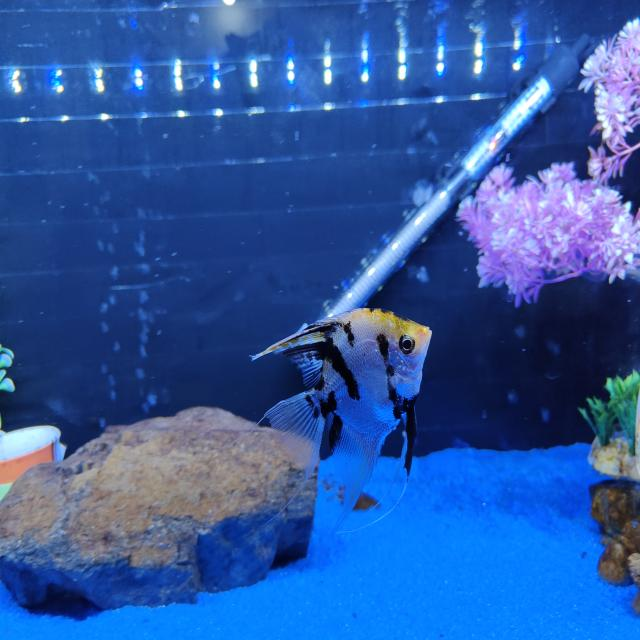Fish: (252, 308, 431, 529)
